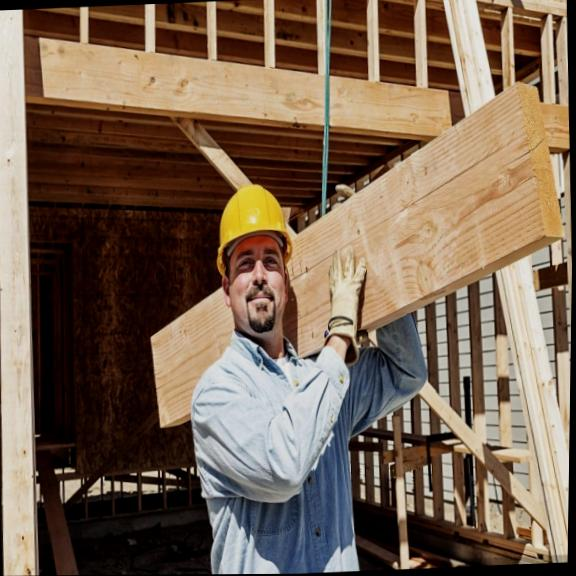no_safety_vest: (186, 323, 351, 575)
